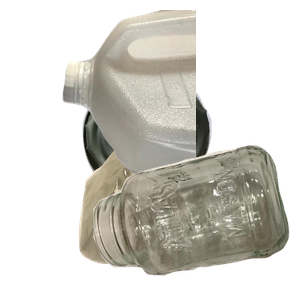glass: (91, 143, 300, 300)
metal: (80, 68, 284, 248)
plastic: (60, 10, 300, 190)
trash: (76, 124, 287, 300)
